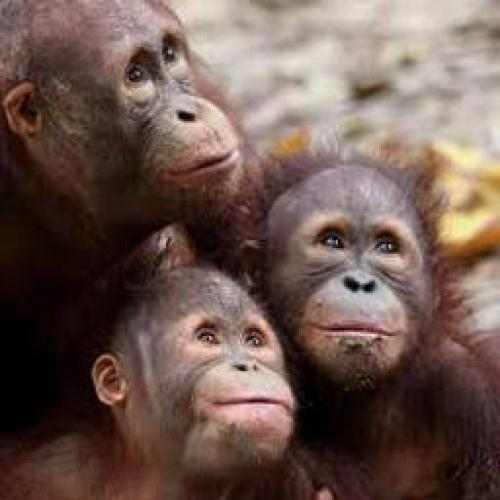orangutan-endangered: (0, 1, 248, 274), (68, 265, 301, 500), (265, 153, 441, 381)
